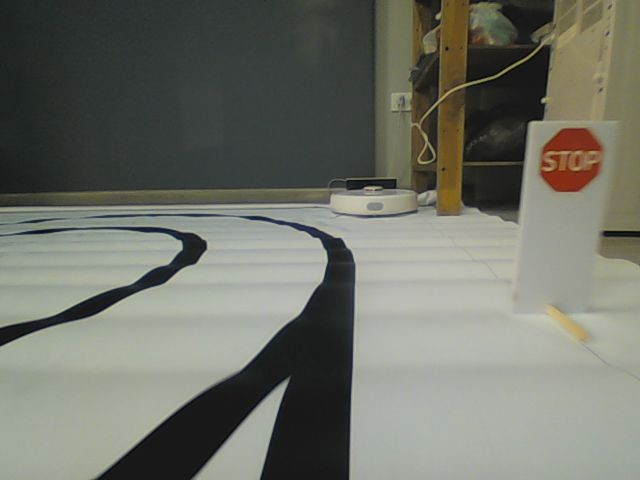Stop: (536, 124, 605, 196)
